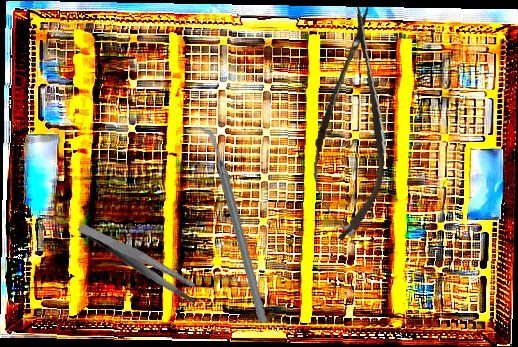Chopper: (173, 125, 293, 324)
Dressing Forceps: (76, 196, 205, 327)
Micro Scissor: (304, 3, 400, 243)
